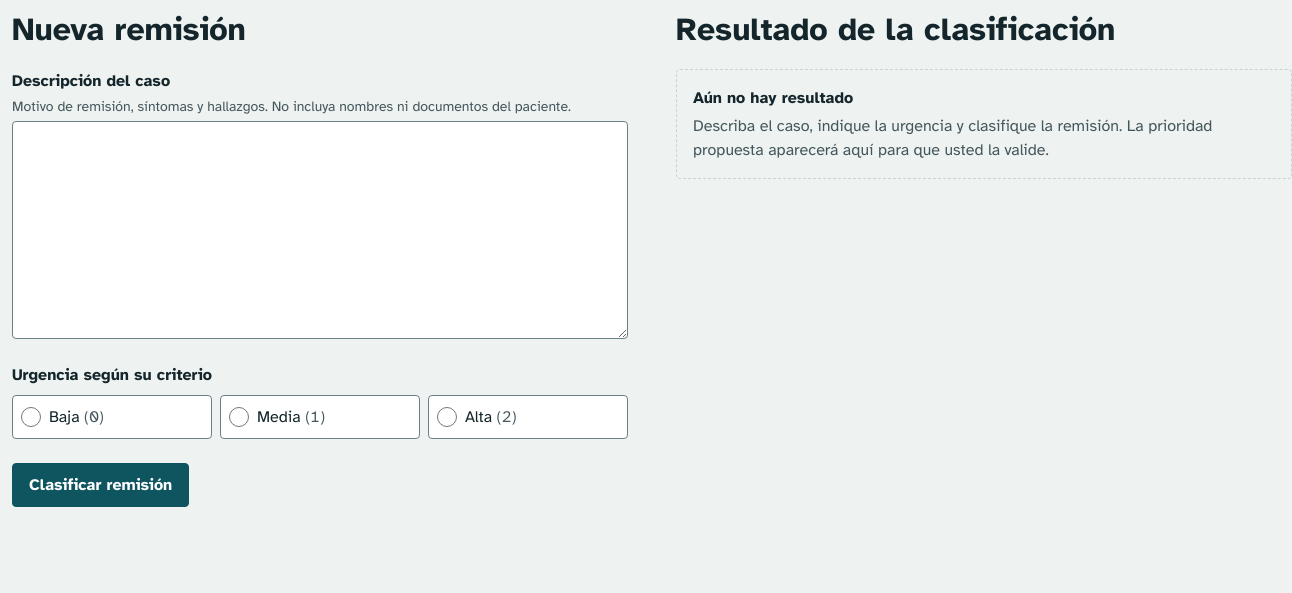
Test: Formulario de remisión › envía el texto y la urgencia a POST /classify y muestra la prioridad
The image size is (1292, 593).
Type "Caso sintético: control por cefalea ocasional sin otros hallazgos." into the text box labelled "Descripción del caso" at (320, 230), box left=12, top=121, right=628, bottom=339
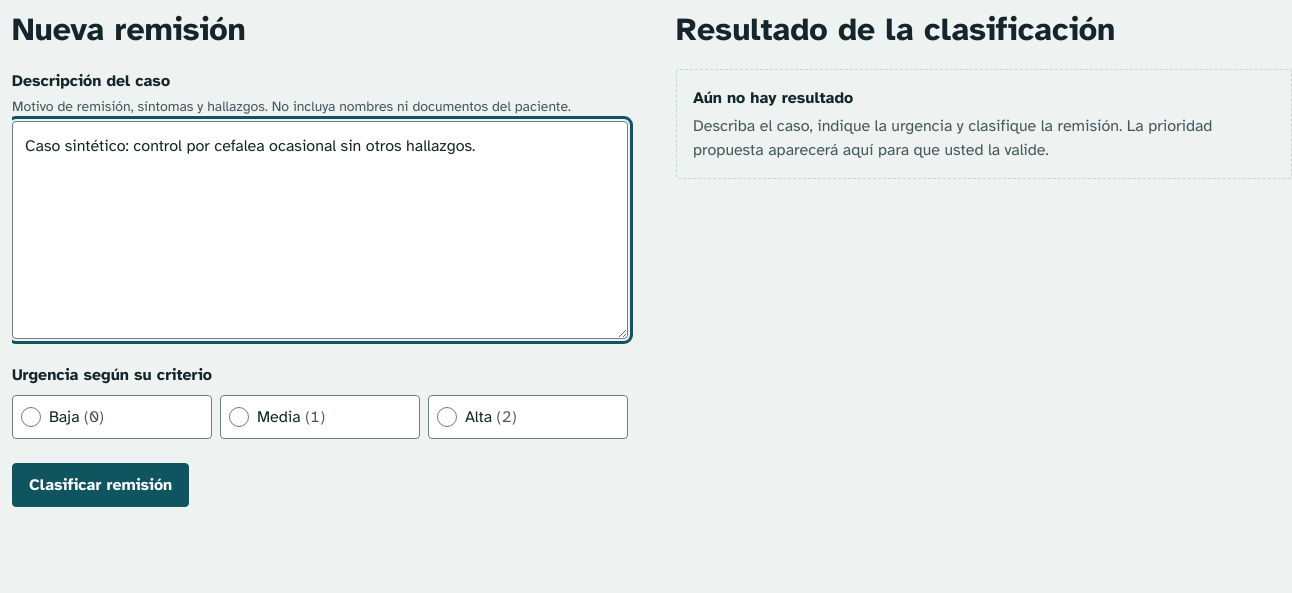
Click the radio button labelled "Media (1)" at (239, 417), box left=229, top=407, right=249, bottom=427
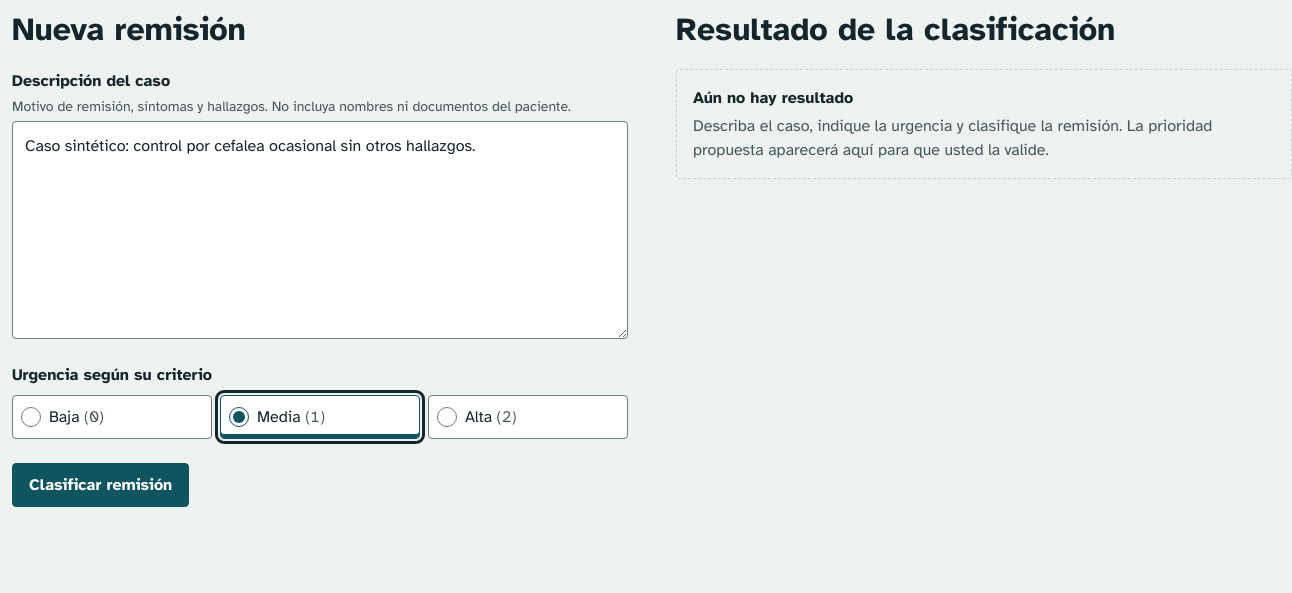
Click the button "Clasificar remisión" at (101, 485), box left=12, top=463, right=189, bottom=507
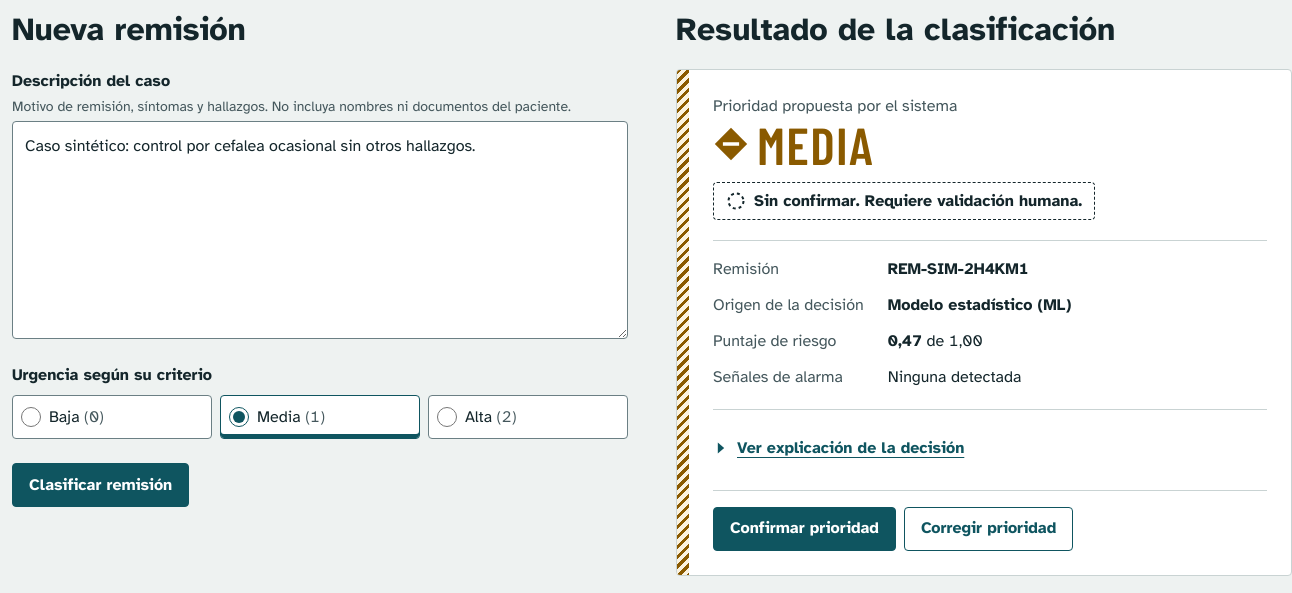
Expected: the text "MEDIA" is shown, left=757, top=118, right=874, bottom=170
